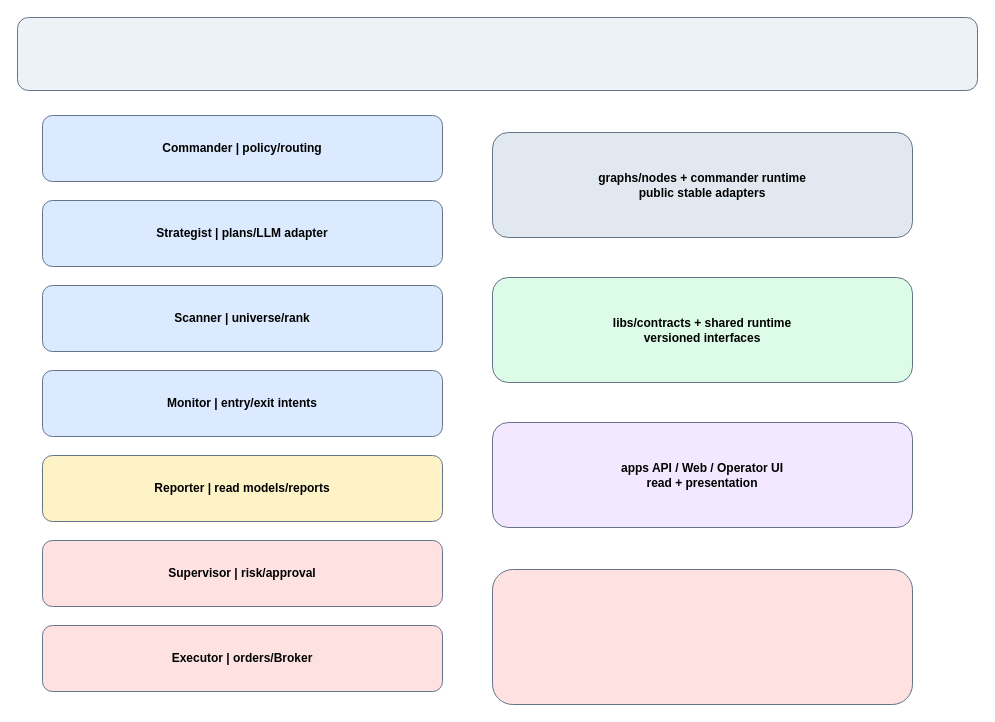
Image size: 995x722. Some labels were removed from this diagram. Each missing label, with the box of its shape:
PROPOSAL ONLY: no file moves. Source f555165b1abc: (16, 16, 978, 90)
SAFETY_LOCK Broker / CAS / UNKNOWN / UEF no automatic owner move: (492, 568, 912, 704)
